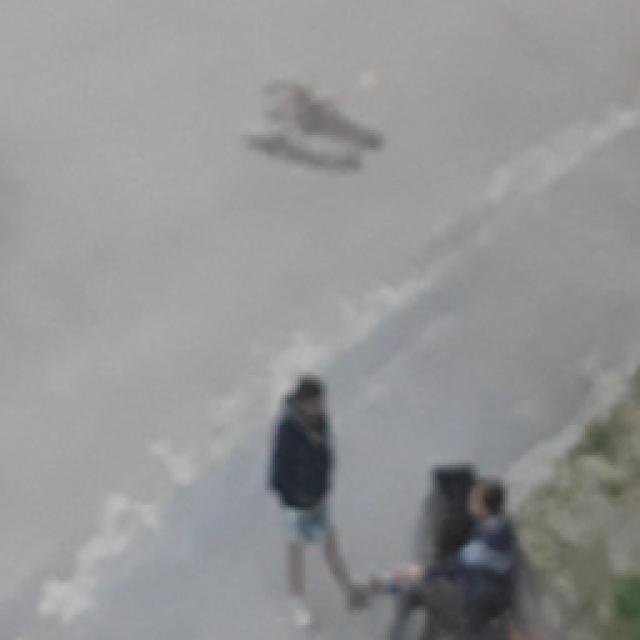person: (269, 373, 369, 633), (373, 475, 521, 633)
